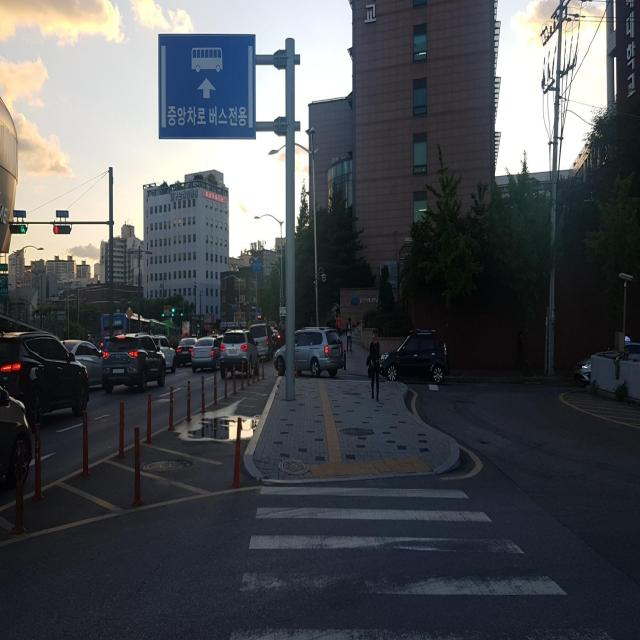횡단보도: (227, 481, 616, 640)
